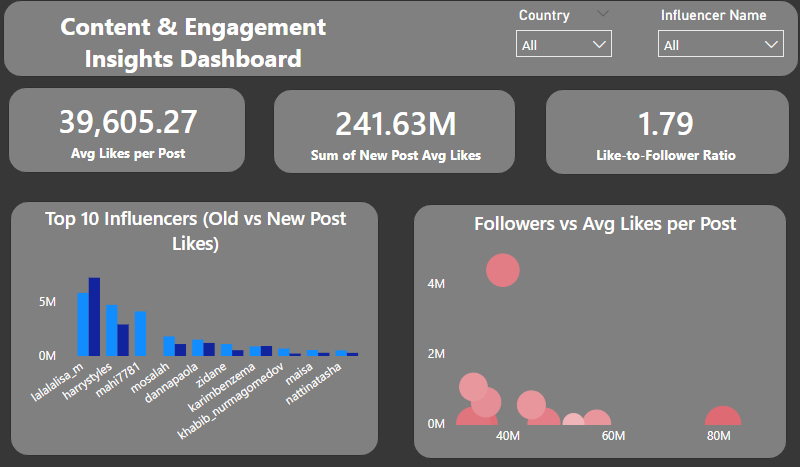

Layout of this report page (visuals, bound fields, positions):
{"tool":"powerbi","page":{"name":" Dashboard 2","canvas":[800,471],"ordinal":1},"visuals":[{"type":"shape","box":[3,2,796,77],"z":0},{"type":"shape","box":[8,89,238,86],"z":1000},{"type":"shape","box":[273,91,243,85],"z":2000},{"type":"shape","box":[545,91,245,86],"z":3000},{"type":"shape","box":[10,203,369,255],"z":4000},{"type":"shape","box":[413,206,374,255],"z":5000},{"type":"card","fields":{"Values":["top_insta_influencers_data_cleaned.Avg Likes per Post"]},"box":[15,92,226,78],"z":6000},{"type":"card","fields":{"Values":["top_insta_influencers_data_cleaned.New Post Avg Likes"]},"box":[283,94,226,78],"z":7000},{"type":"card","fields":{"Values":["top_insta_influencers_data_cleaned.Like-to-Follower Ratio"]},"box":[553,94,226,78],"z":8000},{"type":"slicer","fields":{"Values":["top_insta_influencers_data_cleaned.Influencer Name"]},"box":[648,4,146,74],"z":9000},{"type":"slicer","fields":{"Values":["top_insta_influencers_data_cleaned.Country"]},"box":[506,4,116,72],"z":10000},{"type":"clusteredColumnChart","title":"Top 10 Influencers (Old vs New Post Likes)","fields":{"Category":["top_insta_influencers_data_cleaned.Influencer Name"],"Y":["top_insta_influencers_data_cleaned.Average Likes","top_insta_influencers_data_cleaned.New Post Avg Likes"]},"box":[16,207,359,248],"z":11000},{"type":"textbox","box":[11,6,364,79],"z":12000},{"type":"scatterChart","title":"Followers vs Avg Likes per Post","fields":{"X":["top_insta_influencers_data_cleaned.Followers"],"Y":["top_insta_influencers_data_cleaned.Avg Likes per Post"],"Size":["top_insta_influencers_data_cleaned.Influence Score"],"Series":["top_insta_influencers_data_cleaned.Influencer Name"]},"box":[422,212,366,244],"z":13000}]}

Visuals, with their boxes in screenshot pixels (x1, y1, x2, y2), scaled from the page's 800x471 canvas onto the 800x467 screenshot:
shape: 3, 2, 799, 78
shape: 8, 88, 246, 174
shape: 273, 90, 516, 175
shape: 545, 90, 790, 175
shape: 10, 201, 379, 454
shape: 413, 204, 787, 457
card - top_insta_influencers_data_cleaned.Avg Likes per Post: 15, 91, 241, 169
card - top_insta_influencers_data_cleaned.New Post Avg Likes: 283, 93, 509, 171
card - top_insta_influencers_data_cleaned.Like-to-Follower Ratio: 553, 93, 779, 171
slicer - top_insta_influencers_data_cleaned.Influencer Name: 648, 4, 794, 77
slicer - top_insta_influencers_data_cleaned.Country: 506, 4, 622, 75
"Top 10 Influencers (Old vs New Post Likes)" clusteredColumnChart: 16, 205, 375, 451
textbox: 11, 6, 375, 84
"Followers vs Avg Likes per Post" scatterChart: 422, 210, 788, 452
